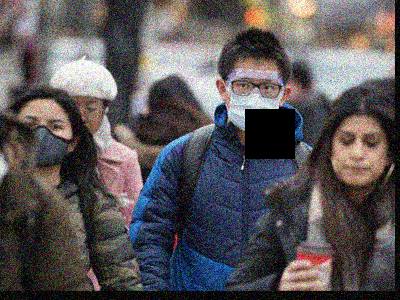with_mask: (225, 66, 284, 134), (16, 111, 71, 171)
without_mask: (329, 125, 389, 188), (72, 95, 105, 139)
